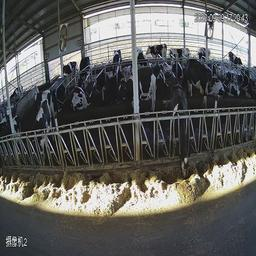cow: (21, 96, 54, 178), (169, 81, 191, 186), (118, 64, 158, 120), (181, 55, 211, 110), (97, 65, 124, 115), (68, 74, 91, 119), (143, 35, 170, 69), (28, 84, 60, 111), (209, 66, 229, 107), (58, 51, 78, 83), (170, 41, 194, 65), (110, 39, 123, 77), (227, 69, 242, 101), (242, 66, 254, 102), (227, 47, 245, 70), (198, 42, 212, 64), (80, 52, 93, 74), (136, 40, 146, 66)
